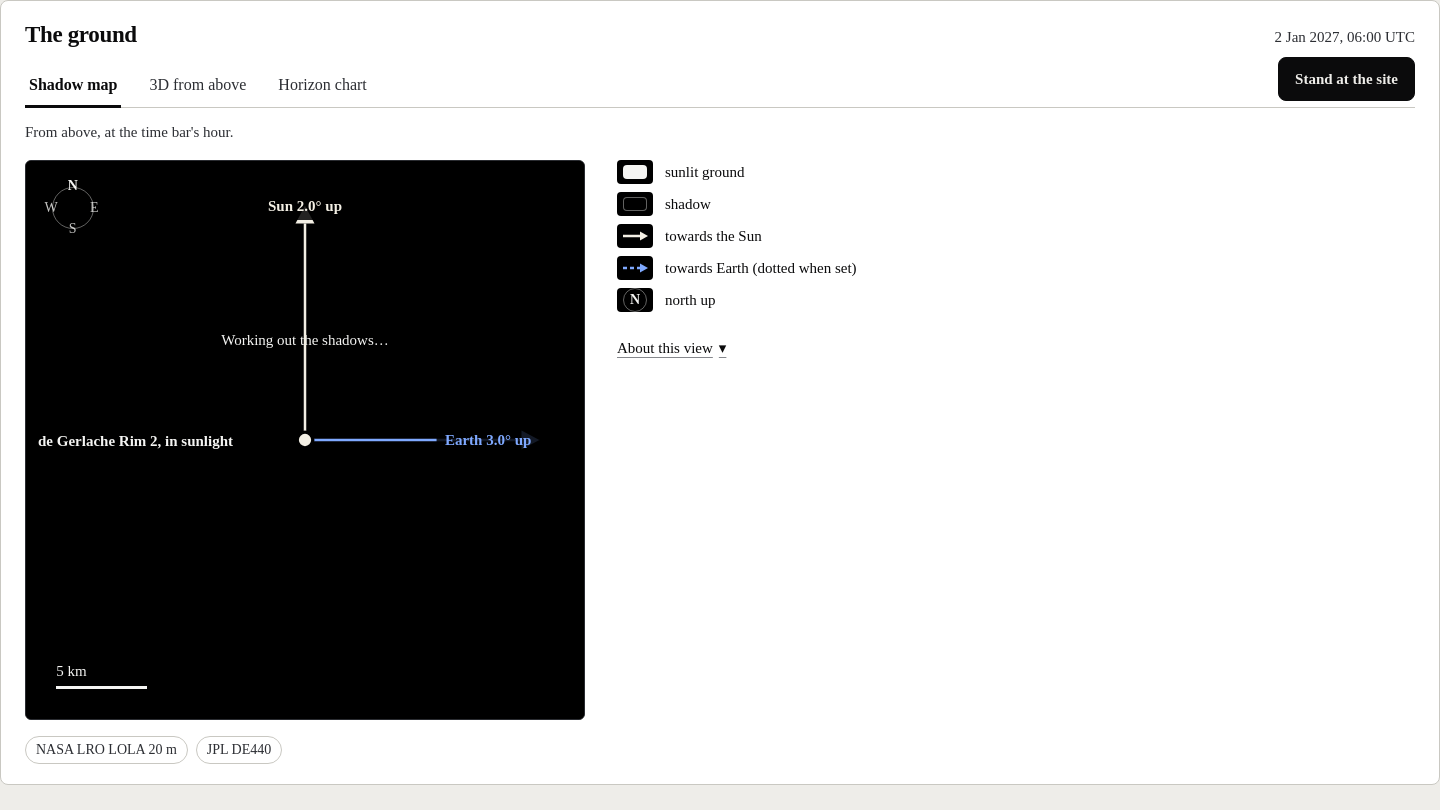
Test: GroundPanel › gives the size of the ground in 3D from above, and says when it shows the whole Moon
Later steps or results of the test are not shown.
Click the tab "3D from above".
click(198, 86)  # box x1=146 y1=64 x2=250 y2=108
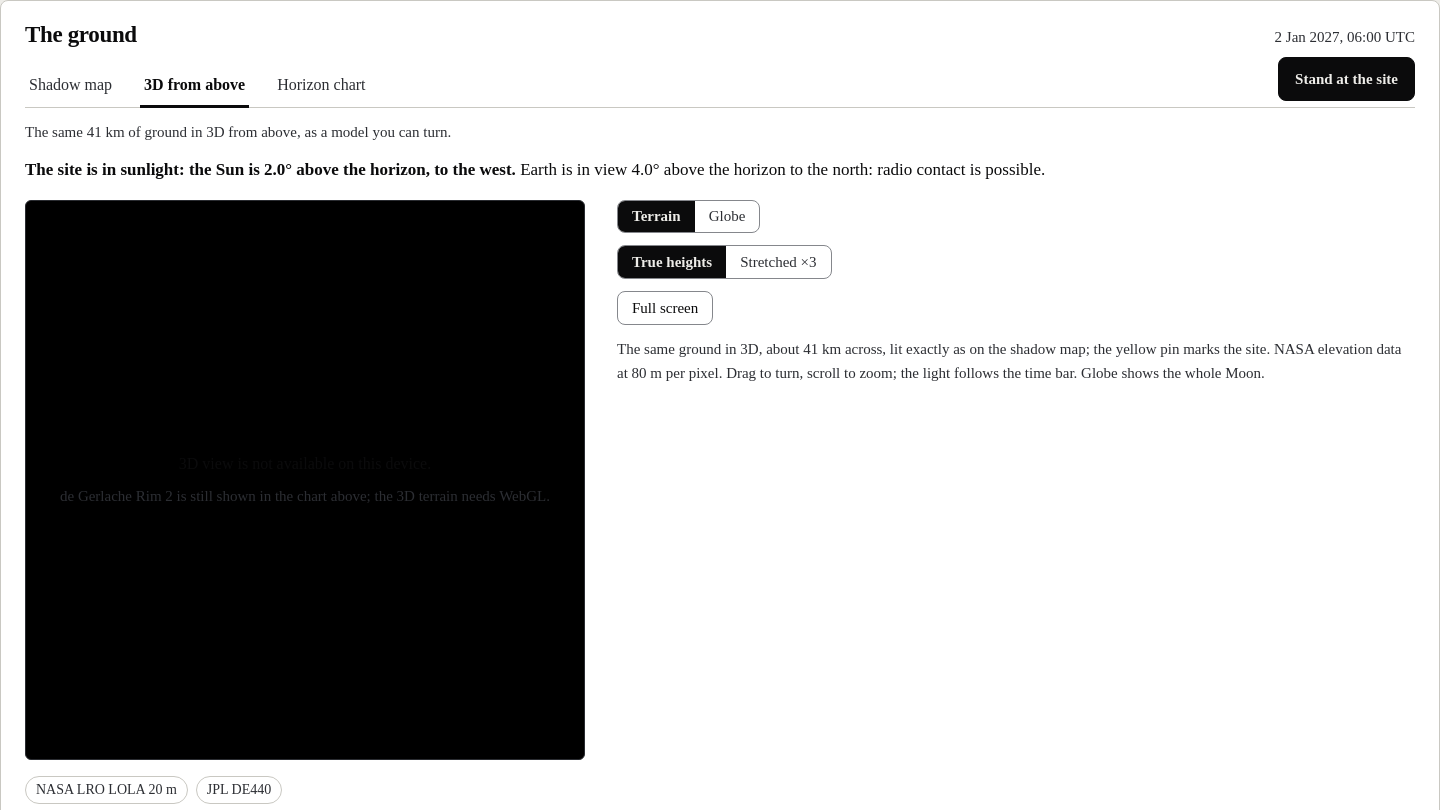
Result: the text "The same 41 km of ground in 3D from above, as a model you can turn." is shown at x1=25 y1=124 x2=451 y2=140
